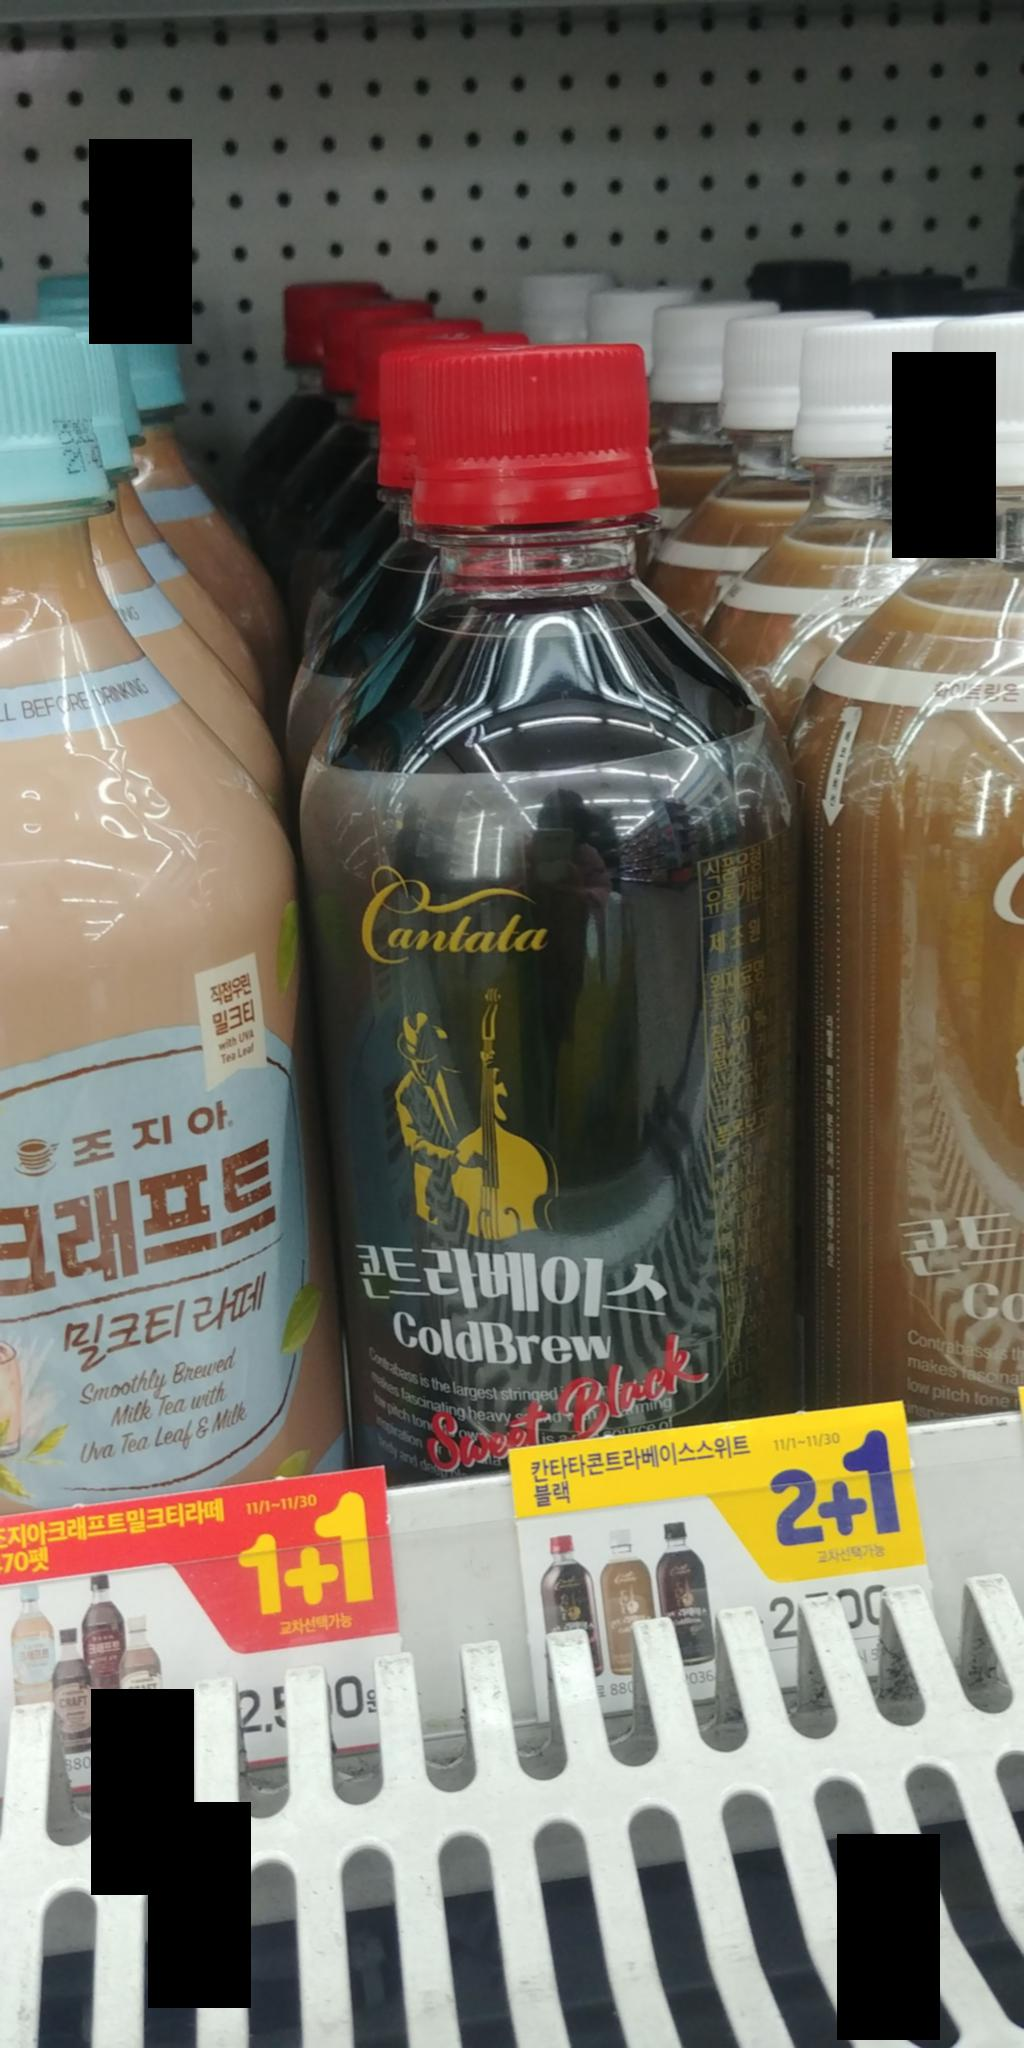contrabass_sweetblack: (282, 329, 827, 1481)
